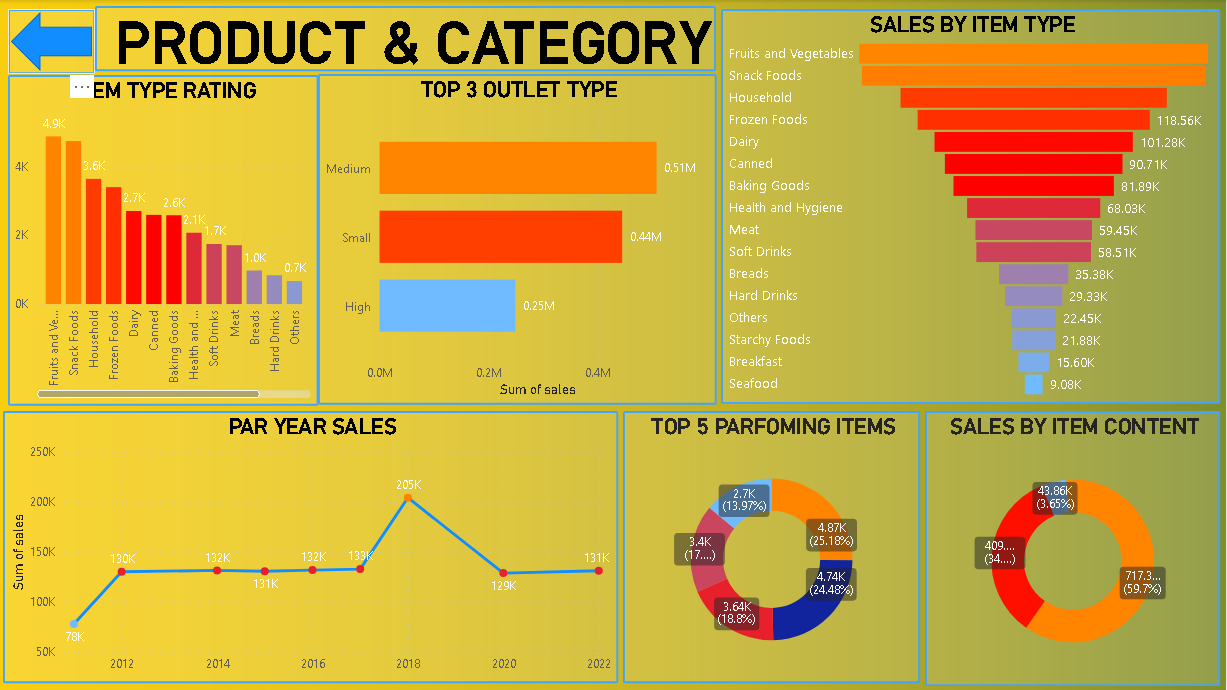

The dashboard page shown, as its layout file describes it:
{"tool":"powerbi","page":{"name":"PRODUCT & CATEGORY","canvas":[1280,720],"ordinal":1},"visuals":[{"type":"textbox","title":"PRODUCT & CATEGORY","box":[99,6.6,648.2,67.6],"z":0},{"type":"donutChart","title":"SALES BY ITEM CONTENT","fields":{"Y":["Sum(public blink.sales)"],"Category":["public blink.item_fat_content"]},"box":[964.9,428.9,308.5,287],"z":1000},{"type":"funnel","title":"SALES BY ITEM TYPE","fields":{"Category":["public blink.item_type"],"Y":["Sum(public blink.sales)"]},"box":[752.2,9.9,521.2,412.4],"z":2000},{"type":"donutChart","title":"TOP 5 PARFOMING ITEMS","fields":{"Category":["public blink.item_type"],"Y":["Sum(public blink.rating)"]},"box":[649.9,428.9,310.1,283.7],"z":3000},{"type":"clusteredBarChart","title":"TOP 3 OUTLET TYPE","fields":{"Y":["Sum(public blink.sales)"],"Category":["public blink.outlet_size"]},"box":[331.5,77.5,415.7,344.7],"z":4000},{"type":"lineChart","title":"PAR YEAR SALES","fields":{"Y":["Sum(public blink.sales)"],"Category":["public blink.outlet_establishment_year"]},"box":[3.3,428.9,641.6,283.7],"z":5000},{"type":"columnChart","title":"ITEM TYPE RATING","fields":{"Y":["Sum(public blink.rating)"],"Category":["public blink.item_type"]},"box":[8,78,324,345],"z":6000},{"type":"shape","box":[8.2,9.9,90.7,67.6],"z":7000}]}

Visuals, with their boxes in screenshot pixels (x1, y1, x2, y2), scaled from the page's 1280x720 canvas onto the 1227x690 screenshot:
"PRODUCT & CATEGORY" textbox: l=95, t=6, r=716, b=71
"SALES BY ITEM CONTENT" donutChart: l=925, t=411, r=1221, b=686
"SALES BY ITEM TYPE" funnel: l=721, t=9, r=1221, b=405
"TOP 5 PARFOMING ITEMS" donutChart: l=623, t=411, r=920, b=683
"TOP 3 OUTLET TYPE" clusteredBarChart: l=318, t=74, r=716, b=405
"PAR YEAR SALES" lineChart: l=3, t=411, r=618, b=683
"ITEM TYPE RATING" columnChart: l=8, t=75, r=318, b=405
shape: l=8, t=9, r=95, b=74
